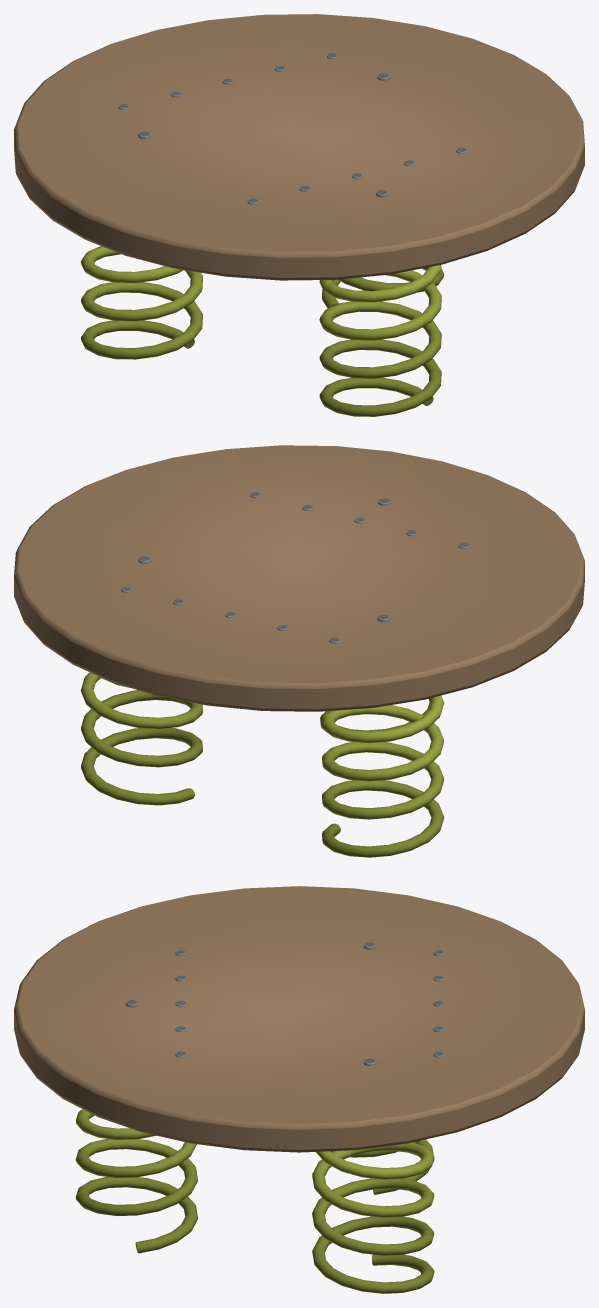
Rendered from Skipping rope.fbx.
3 renders of one model, top to bottom at view 1: azimuth 30°, elevation 25°; view 2: azimuth 150°, elevation 25°; view 3: azimuth 270°, elevation 25°, orthographic.
Parts seen in each view (by area): view 1: Cube.003; view 2: Cube.003; view 3: Cube.003.
Part boxes in pixels (x1,y1,x2,y2): Cube.003: (14, 14, 584, 416); Cube.003: (14, 445, 584, 857); Cube.003: (14, 886, 584, 1293).
Size of the model in its own units: 255 by 112 by 255.
